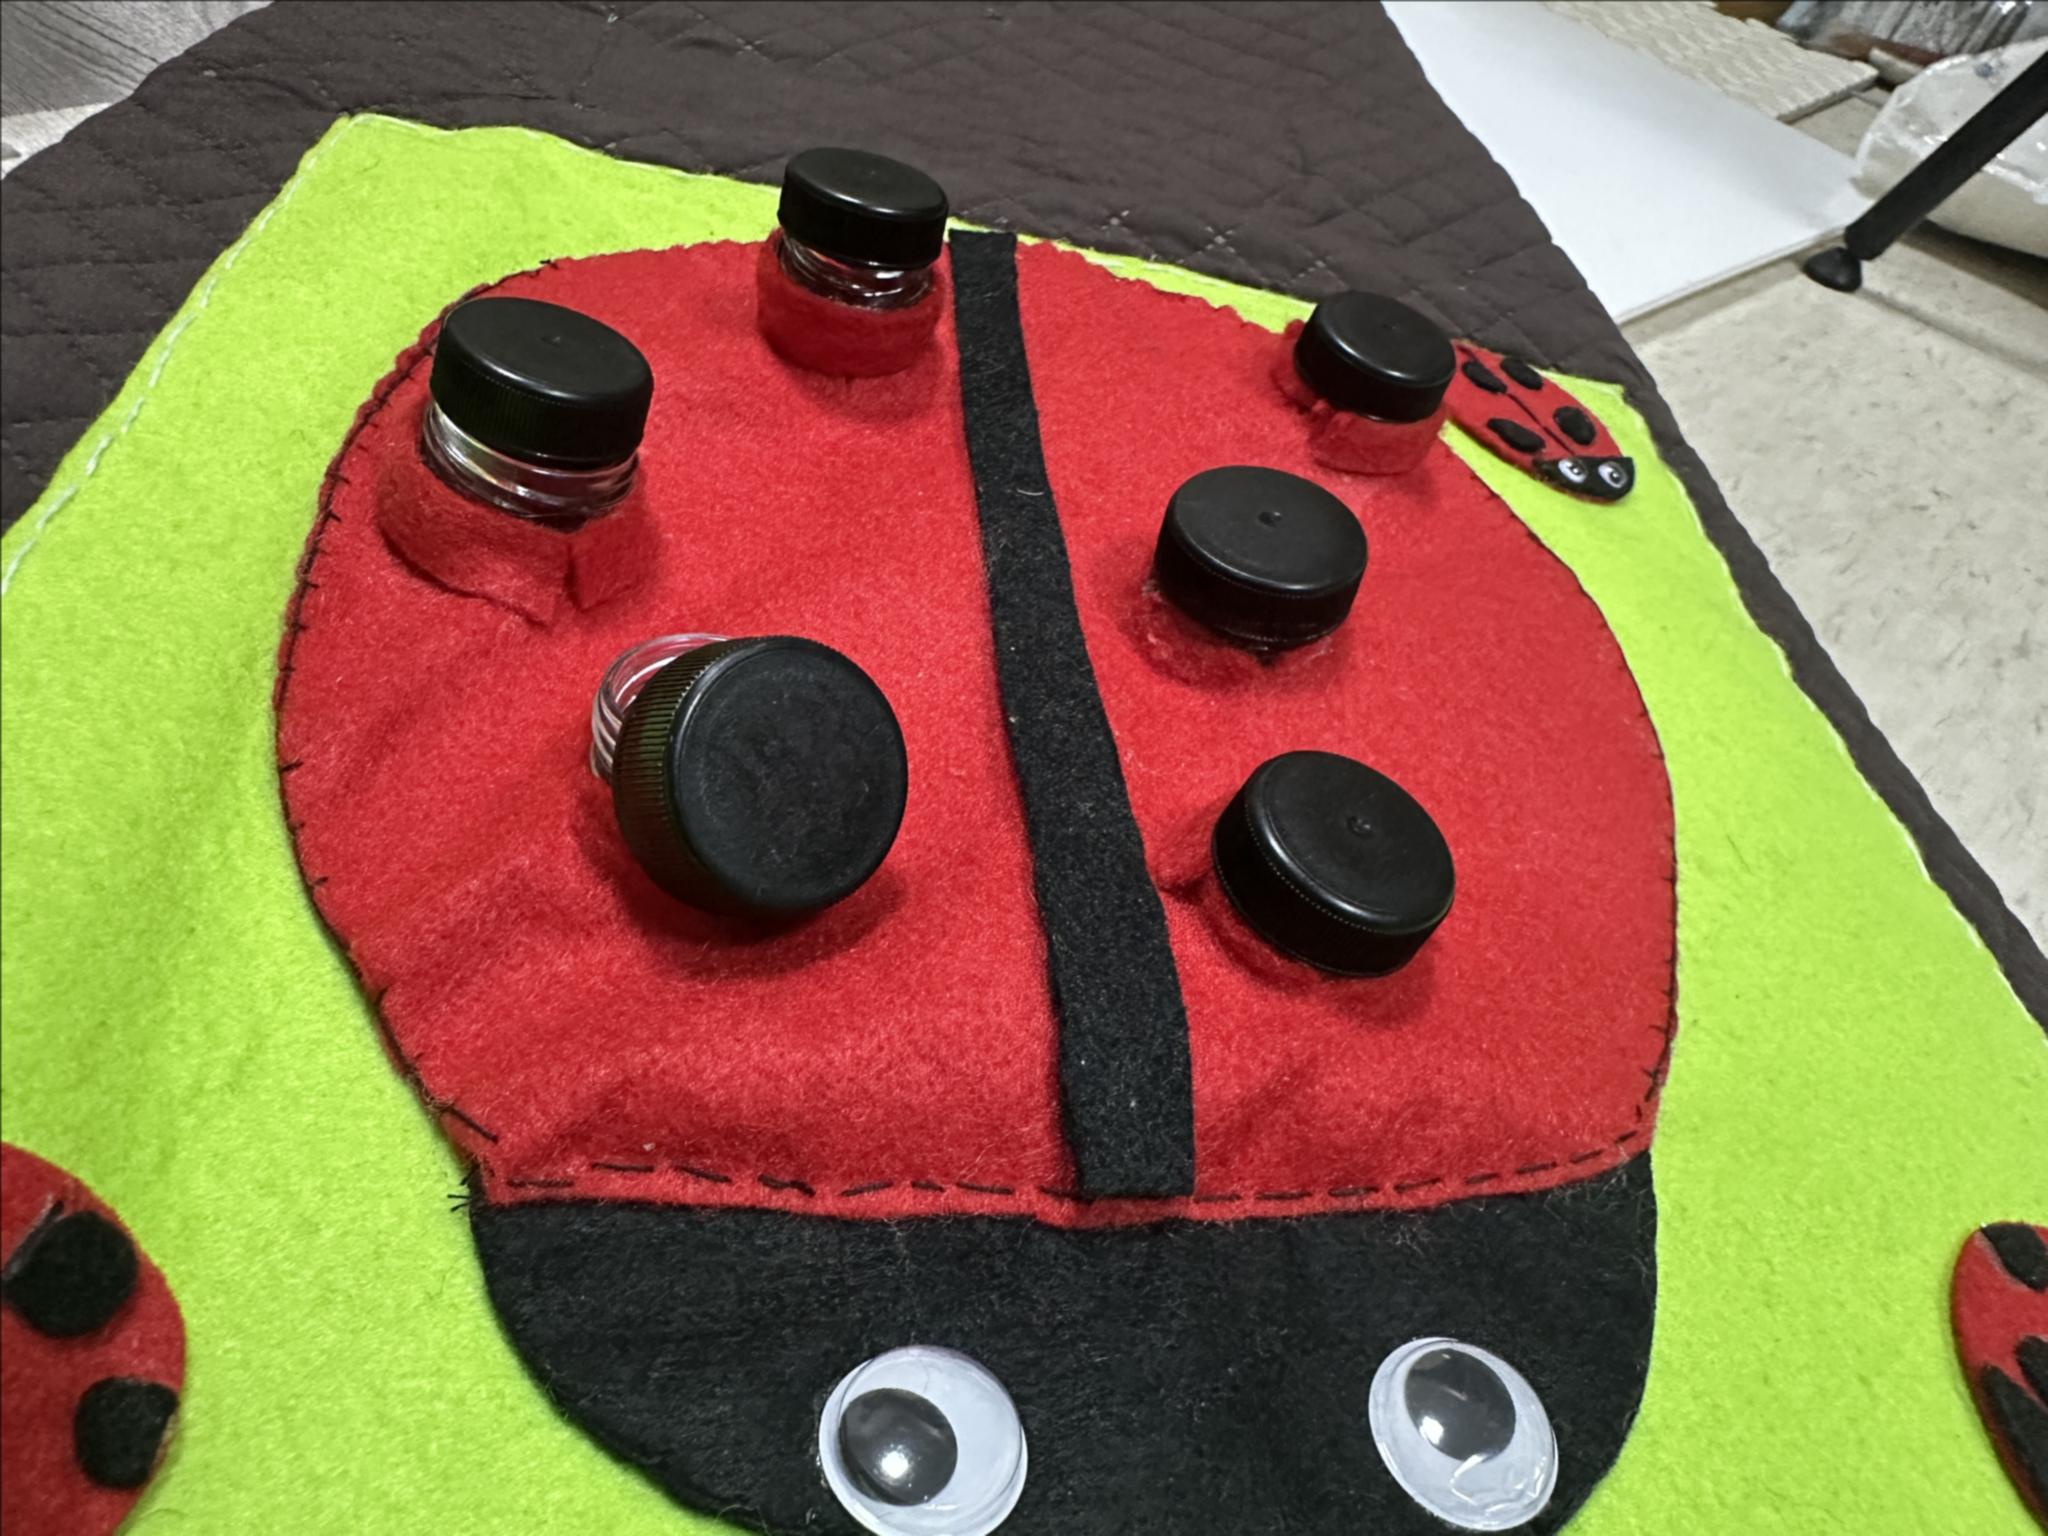cap_ng: (558, 592, 939, 962), (347, 281, 671, 634), (731, 134, 971, 387)
cap_ok: (1176, 733, 1508, 1000), (1114, 436, 1376, 676), (1242, 286, 1461, 474)
